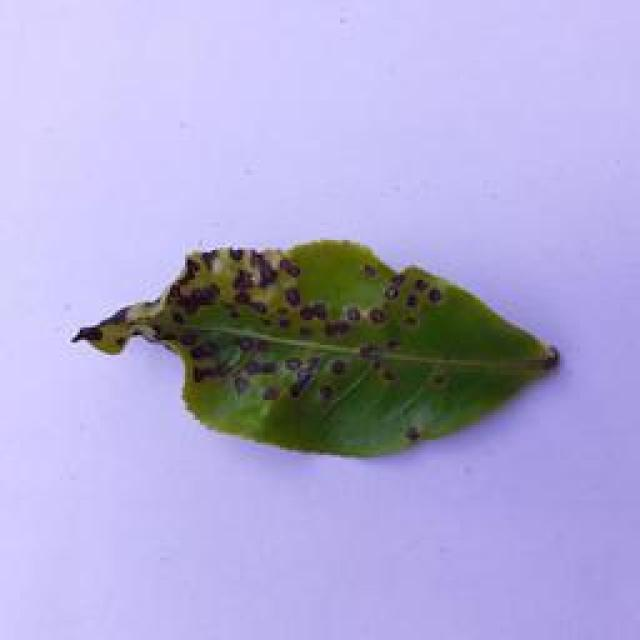Helopeltis: (68, 226, 569, 467)
